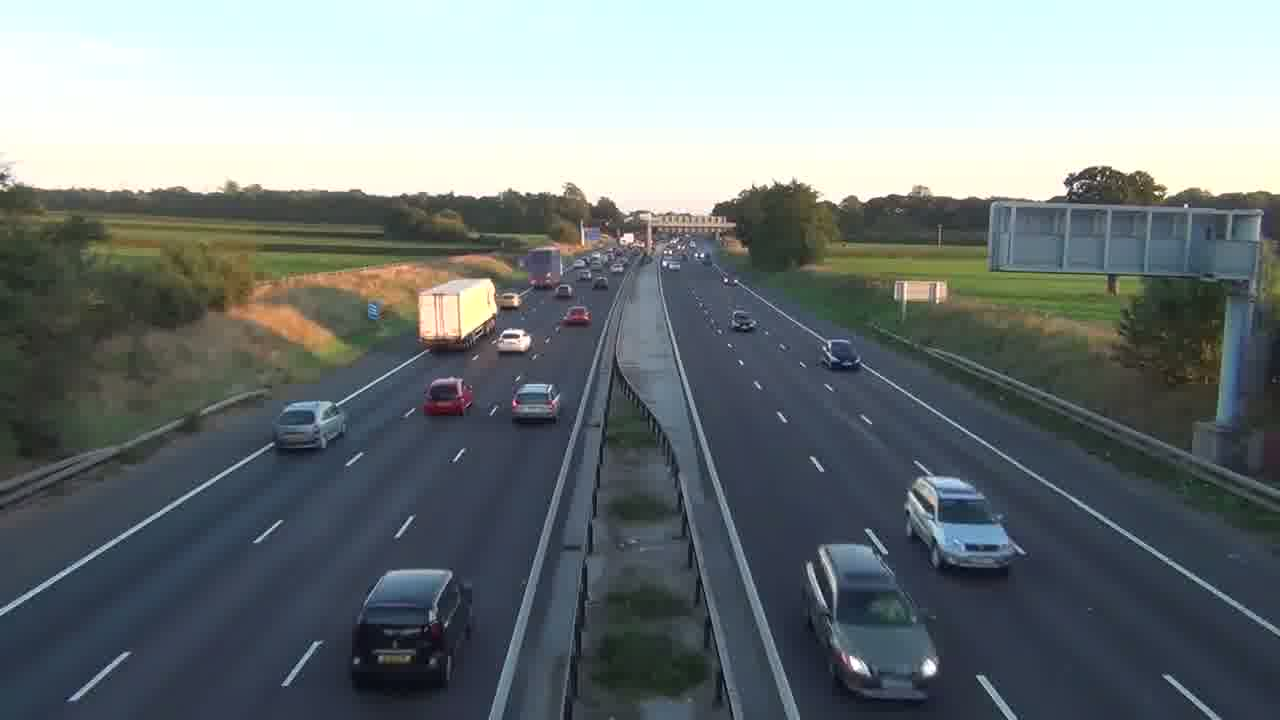car: (801, 539, 942, 702), (350, 567, 473, 688), (271, 399, 348, 451), (422, 377, 474, 417), (511, 382, 561, 423), (819, 338, 858, 371), (497, 328, 531, 352), (730, 309, 756, 333), (562, 305, 591, 326), (592, 277, 608, 291)
truck: (903, 473, 1028, 572), (418, 277, 498, 350)
